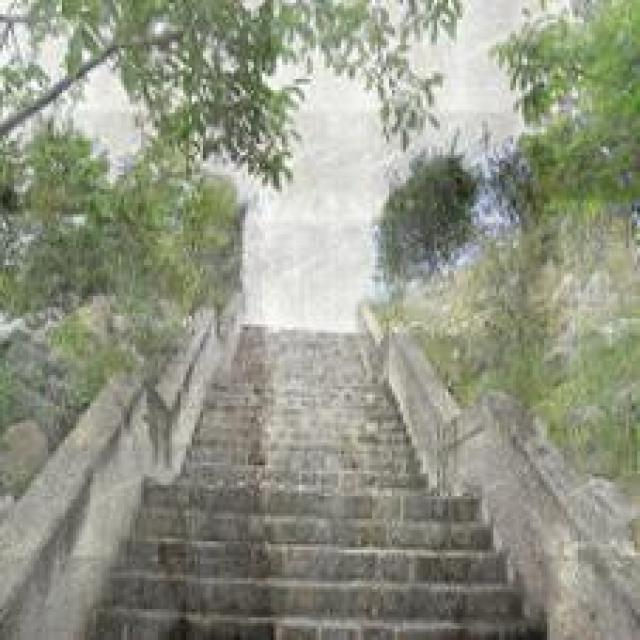upstair: (119, 359, 534, 621)
